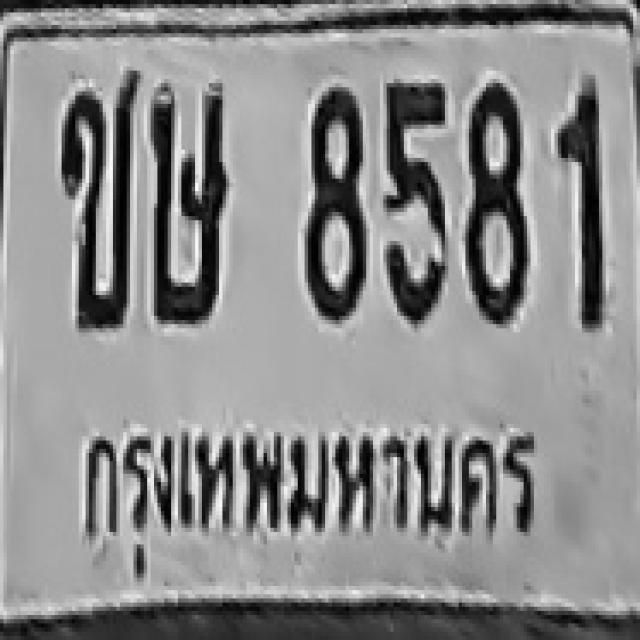1: (554, 81, 602, 322), (554, 81, 602, 301)
19ChorChang: (60, 69, 139, 326)
48SorRueSi: (149, 79, 227, 324)
5: (382, 79, 446, 324)
8: (464, 79, 529, 324), (305, 83, 366, 320)
Bangkok: (60, 408, 555, 584)
